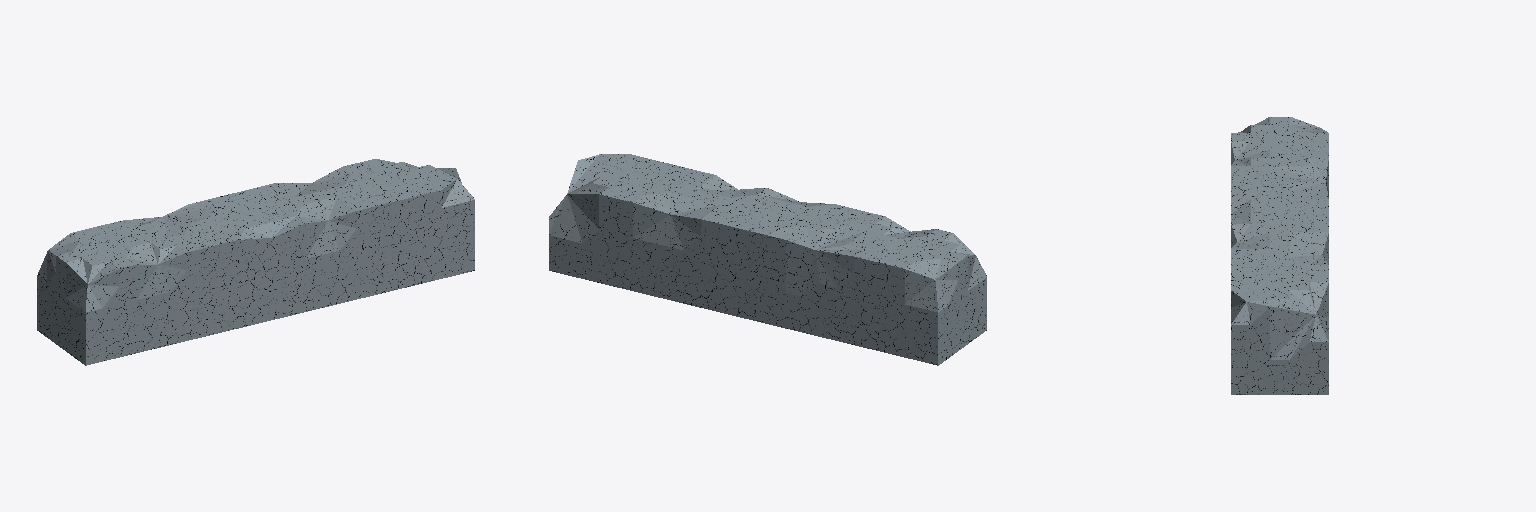
The picture shows the model from 3 angles: view 1: azimuth 30°, elevation 25°; view 2: azimuth 150°, elevation 25°; view 3: azimuth 270°, elevation 25°; orthographic projection.
Visible parts, largest first — view 1: Box001; view 2: Box001; view 3: Box001.
Boxes of the visible parts, x1=… form: Box001: x1=37, y1=159, x2=474, y2=365; Box001: x1=549, y1=154, x2=986, y2=365; Box001: x1=1231, y1=117, x2=1328, y2=394.
Size of the model in its own units: 2300 by 500 by 500.
1 materials, 1 textured.